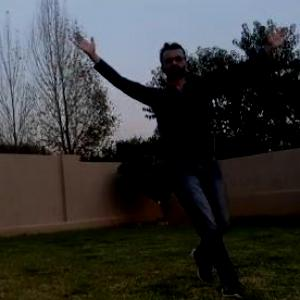takeoff: (68, 32, 282, 290)
